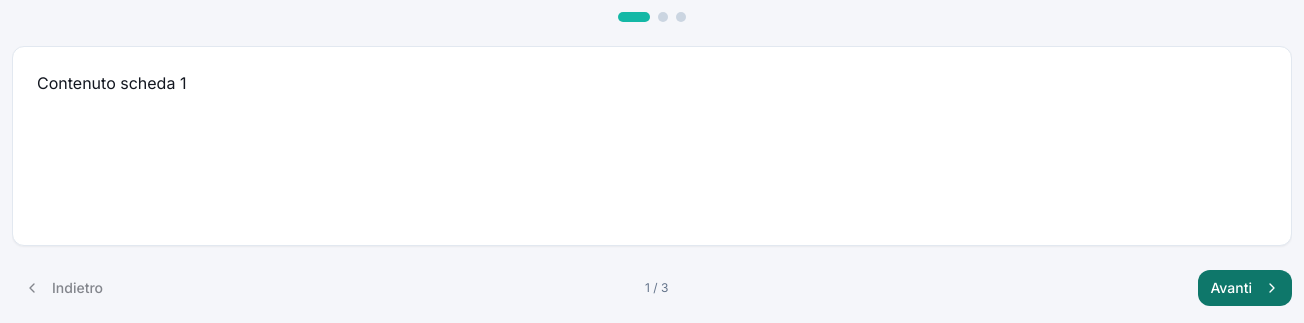
Test: StoryCard › naviga indietro con pulsante Indietro
Click the button "Avanti". click: {"x": 1245, "y": 288}
box: [1198,270,1292,306]
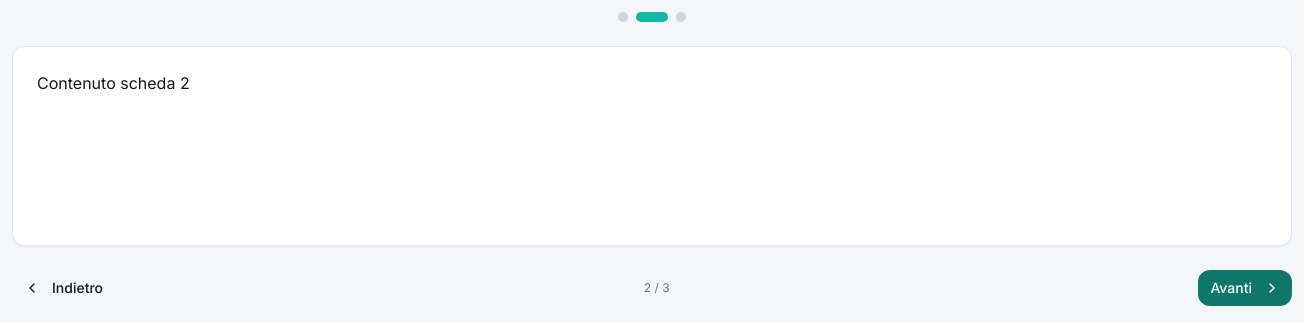
Click the button "Indietro". click: {"x": 64, "y": 288}
box: [12,270,115,306]
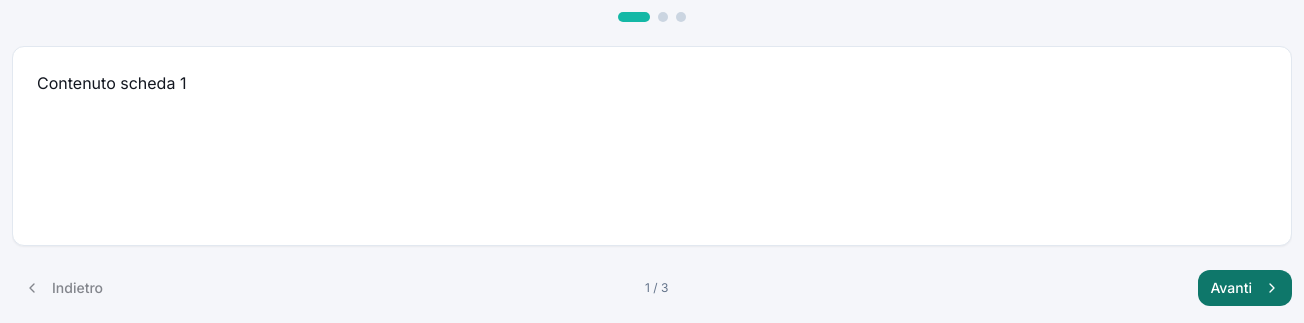
Check: the text "Contenuto scheda 1" is shown, box [37,73,186,93]
